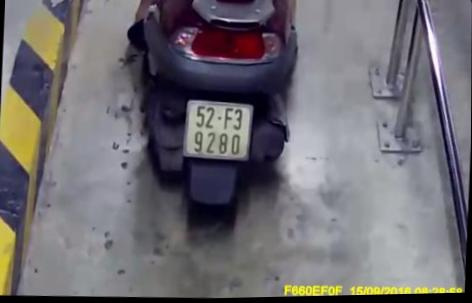LP: (183, 98, 254, 164)
